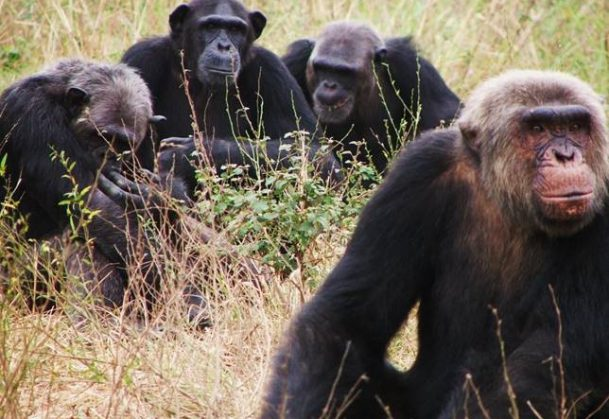Chimpanzee: (330, 82, 605, 419), (1, 63, 174, 253), (142, 7, 294, 173), (292, 21, 468, 150)
